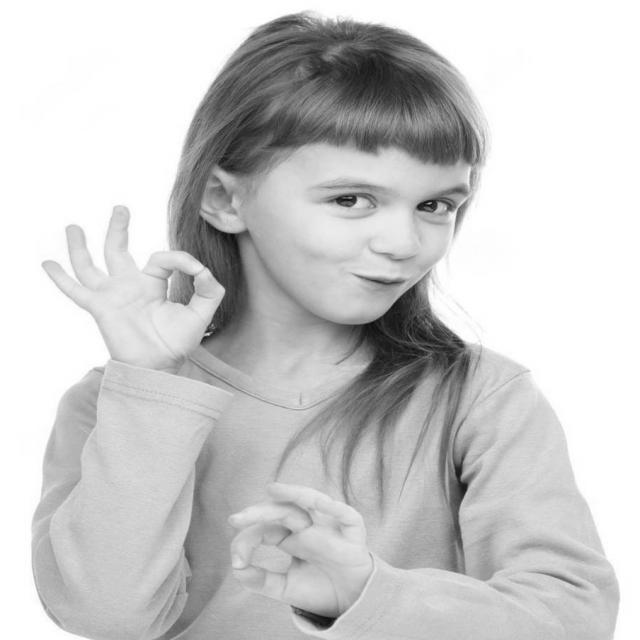perfect: (31, 196, 234, 387), (220, 472, 387, 628)
